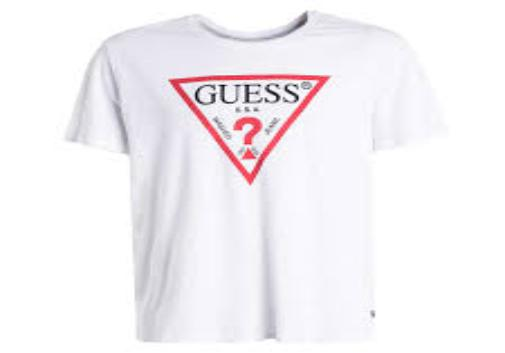GUESS: (163, 73, 345, 188)
